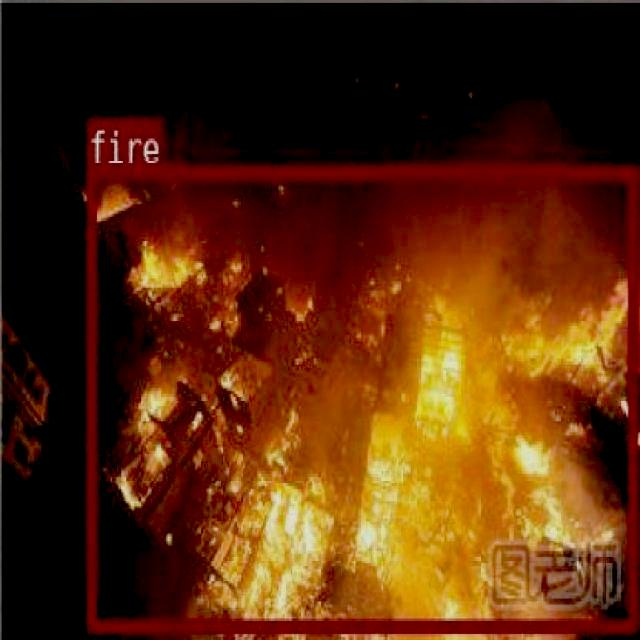fire: (87, 163, 635, 631)
